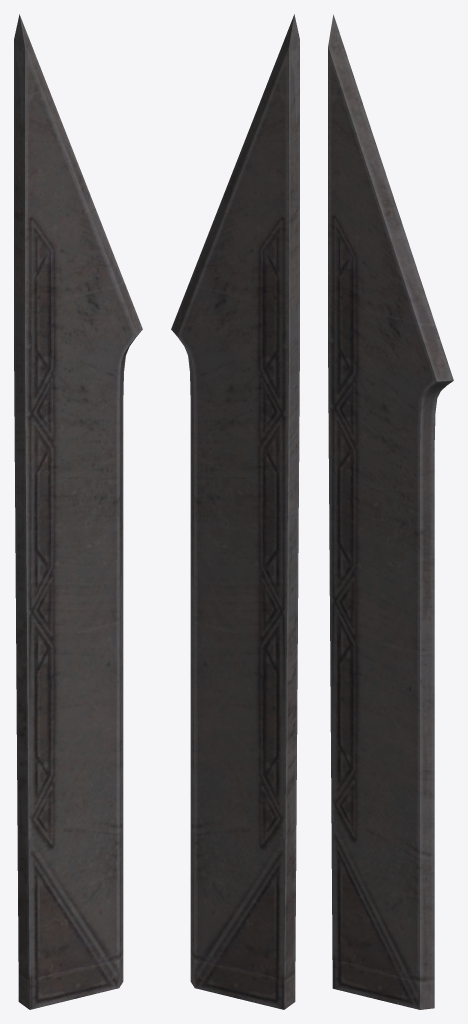
File: sm_dwarf_iron_sword_blade_a.fbx
3 renders of one model, left to right at view 1: azimuth 30°, elevation 25°; view 2: azimuth 150°, elevation 25°; view 3: azimuth 330°, elevation 25°, orthographic. The views are drawn at different scales.
Parts seen in each view (by area): view 1: sm_dwarf_iron_sword_blade_a; view 2: sm_dwarf_iron_sword_blade_a; view 3: sm_dwarf_iron_sword_blade_a.
Boxes of the visible parts, x1=… form: sm_dwarf_iron_sword_blade_a: x1=14, y1=14, x2=142, y2=1009; sm_dwarf_iron_sword_blade_a: x1=171, y1=14, x2=299, y2=1009; sm_dwarf_iron_sword_blade_a: x1=328, y1=14, x2=453, y2=1009.
Size of the model in its own units: 0.1301 by 0.02 by 1.
1 material, 1 textured.
